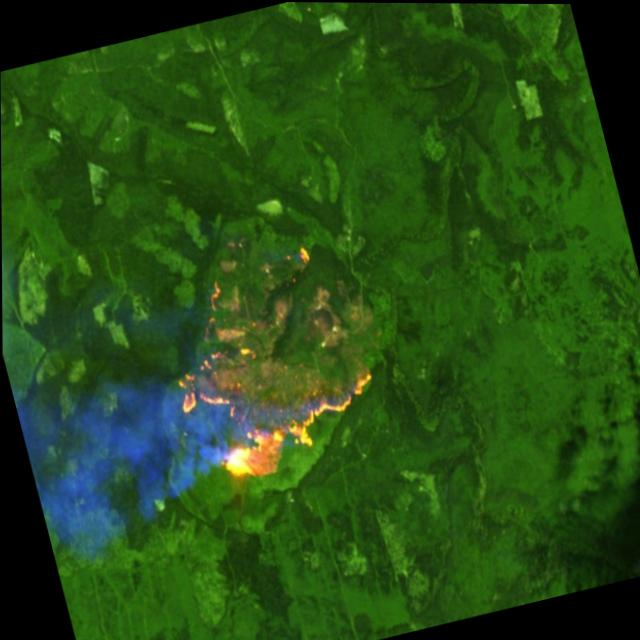fire: (146, 232, 396, 497)
